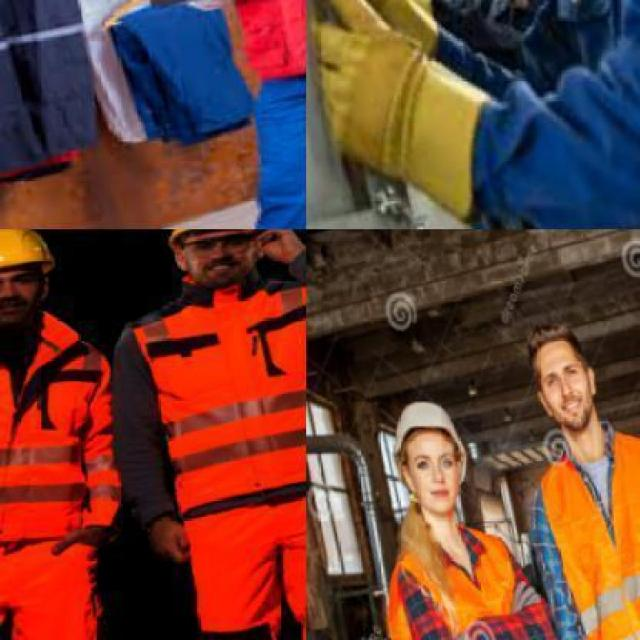vest: (122, 268, 304, 520), (0, 290, 148, 588), (352, 497, 585, 638), (522, 422, 638, 638), (163, 0, 305, 108)
